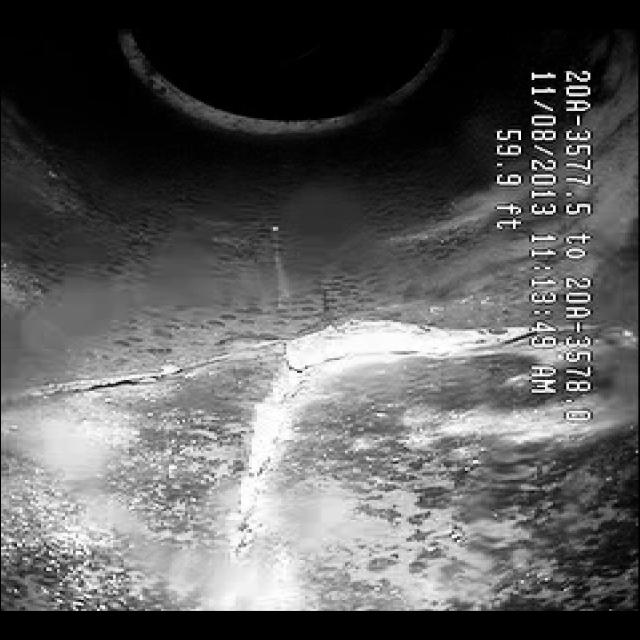Fracture: (70, 304, 497, 578)
